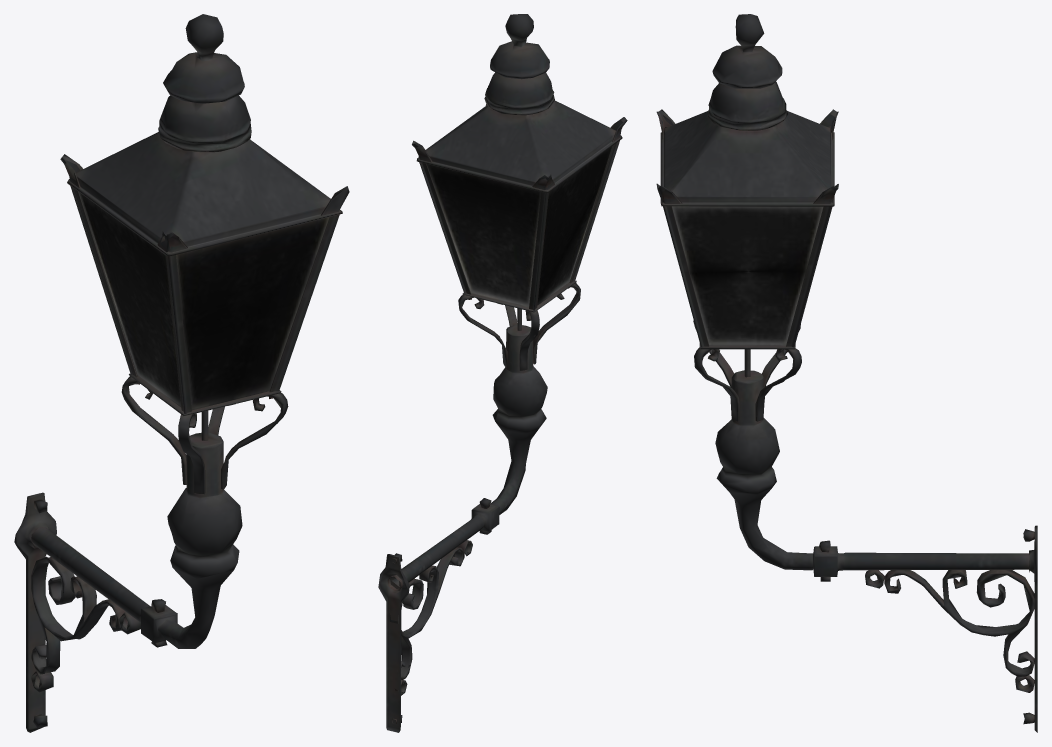
The model's file is street_lamp_02.glb.
The picture shows the model from 3 angles, left to right: view 1: azimuth 30°, elevation 25°; view 2: azimuth 150°, elevation 25°; view 3: azimuth 270°, elevation 25°; orthographic projection. The views are drawn at different scales.
Visible parts, largest first — view 1: street_lamp_02; view 2: street_lamp_02; view 3: street_lamp_02.
Boxes of the visible parts, x1,y1,x2,y2 form: street_lamp_02: (14,14,349,732); street_lamp_02: (378,14,627,732); street_lamp_02: (656,14,1037,732).
Size of the model in its own units: 0.3865 by 1.67 by 0.8068.
Materials: 2 (2 with a texture image).
